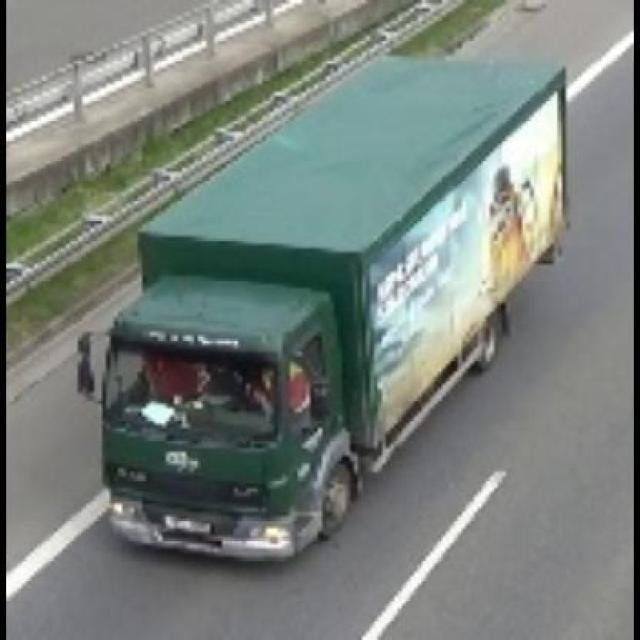truck: (86, 52, 562, 560)
